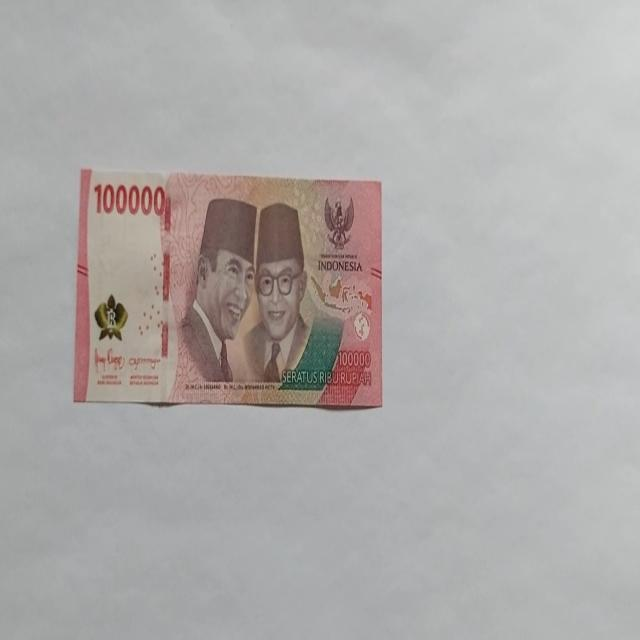seratus ribu rupiah: (73, 167, 383, 408), (166, 196, 258, 402)
